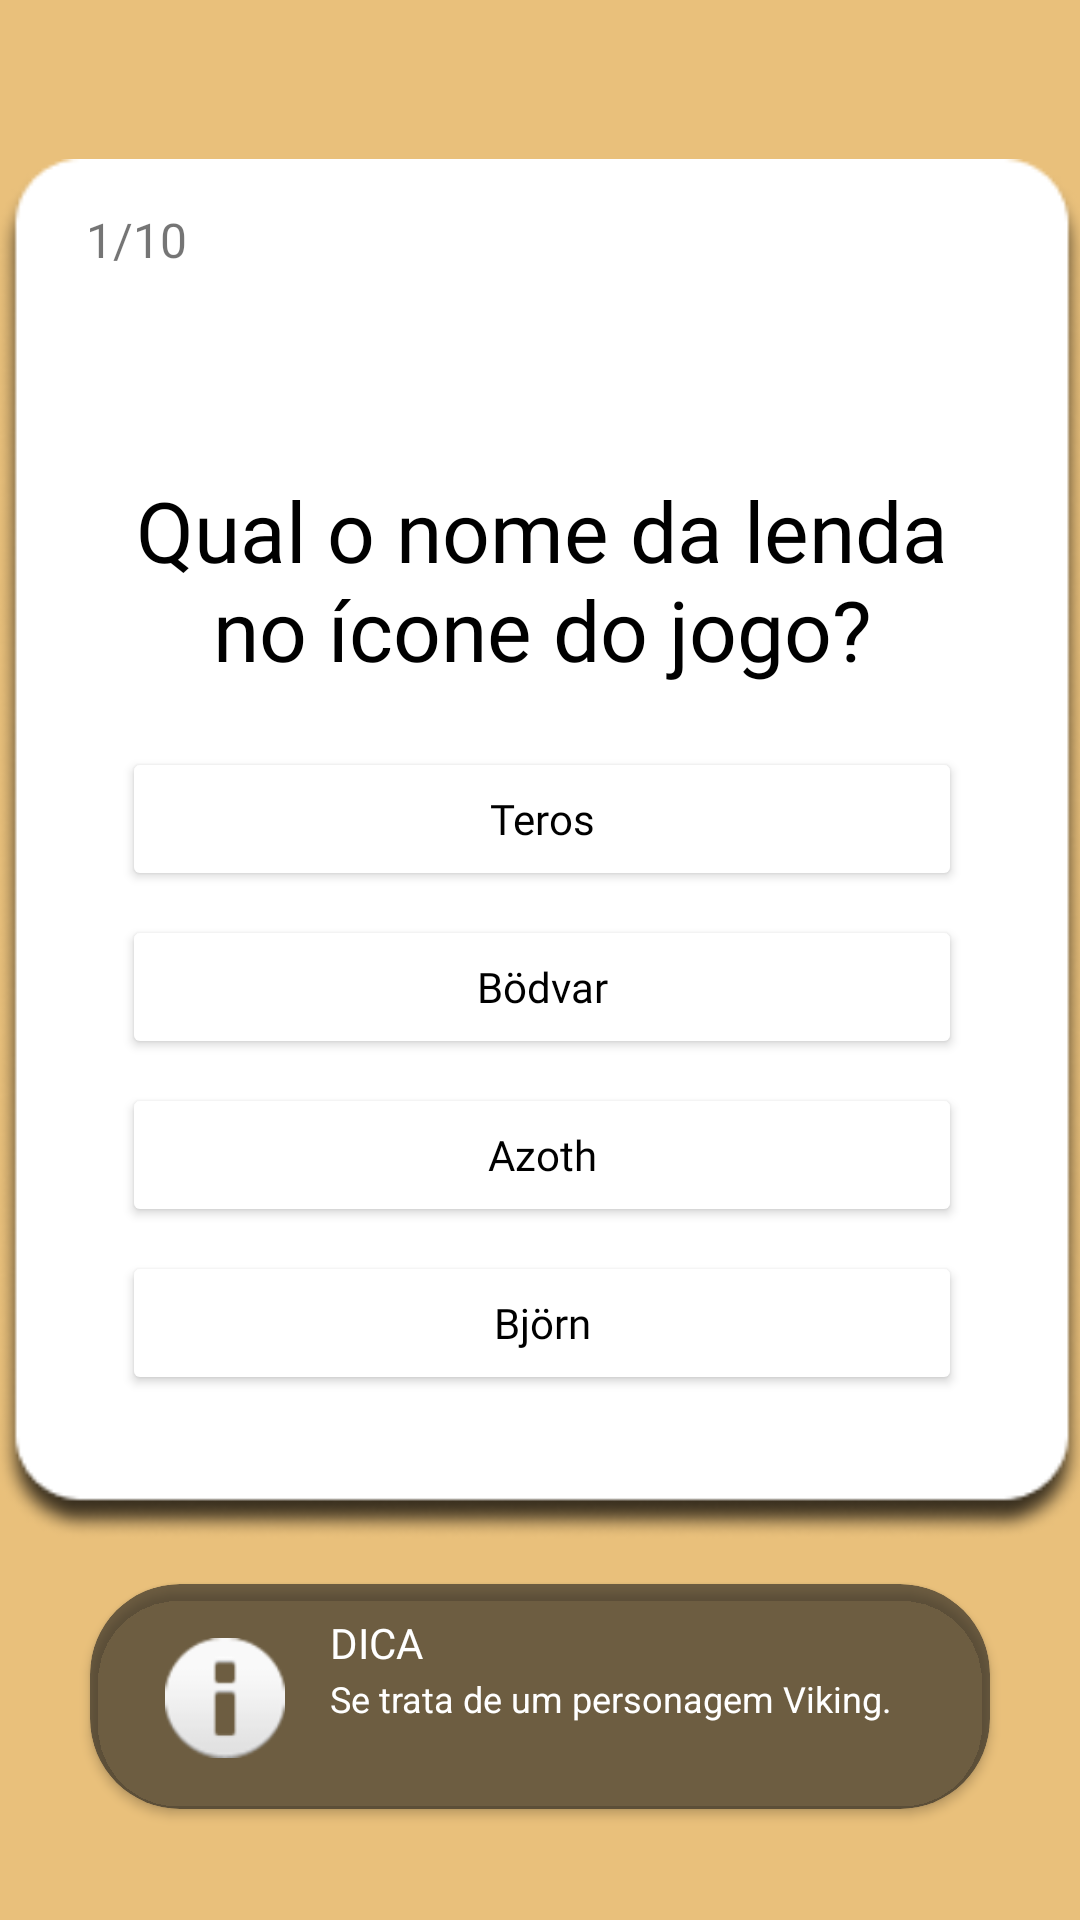

Locate icon controls on the screen. Image size 1080*1920, boxes as (x1, y1, x2, y2).
info: (165, 1638, 285, 1758)
